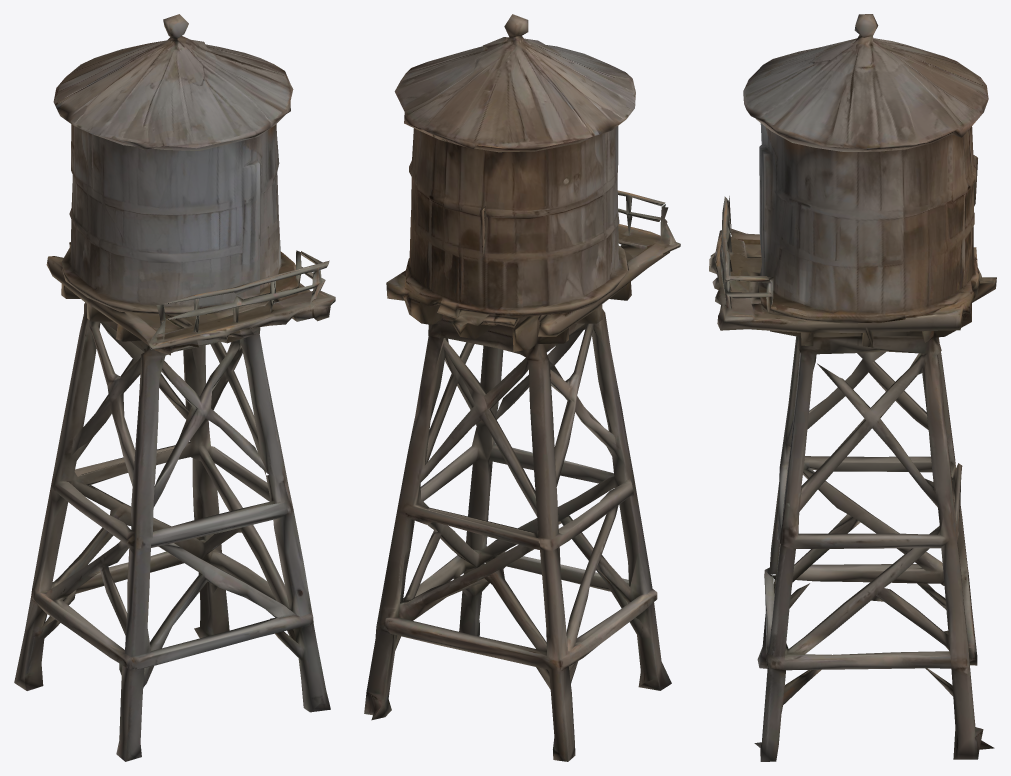
File: water_tower.glb
3 renders of one model, left to right at view 1: azimuth 30°, elevation 25°; view 2: azimuth 150°, elevation 25°; view 3: azimuth 270°, elevation 25°, orthographic. The views are drawn at different scales.
Visible parts, largest first — view 1: tripo_node_14b124c6-3c90-477c-a62c-d2d16cec990f; view 2: tripo_node_14b124c6-3c90-477c-a62c-d2d16cec990f; view 3: tripo_node_14b124c6-3c90-477c-a62c-d2d16cec990f.
Part boxes in pixels (left/top/right/bottom): tripo_node_14b124c6-3c90-477c-a62c-d2d16cec990f: left=14, top=14, right=335, bottom=761; tripo_node_14b124c6-3c90-477c-a62c-d2d16cec990f: left=364, top=14, right=680, bottom=761; tripo_node_14b124c6-3c90-477c-a62c-d2d16cec990f: left=709, top=14, right=996, bottom=761.
Size of the model in its own units: 0.3276 by 0.9998 by 0.3737.
1 material, 1 textured.
